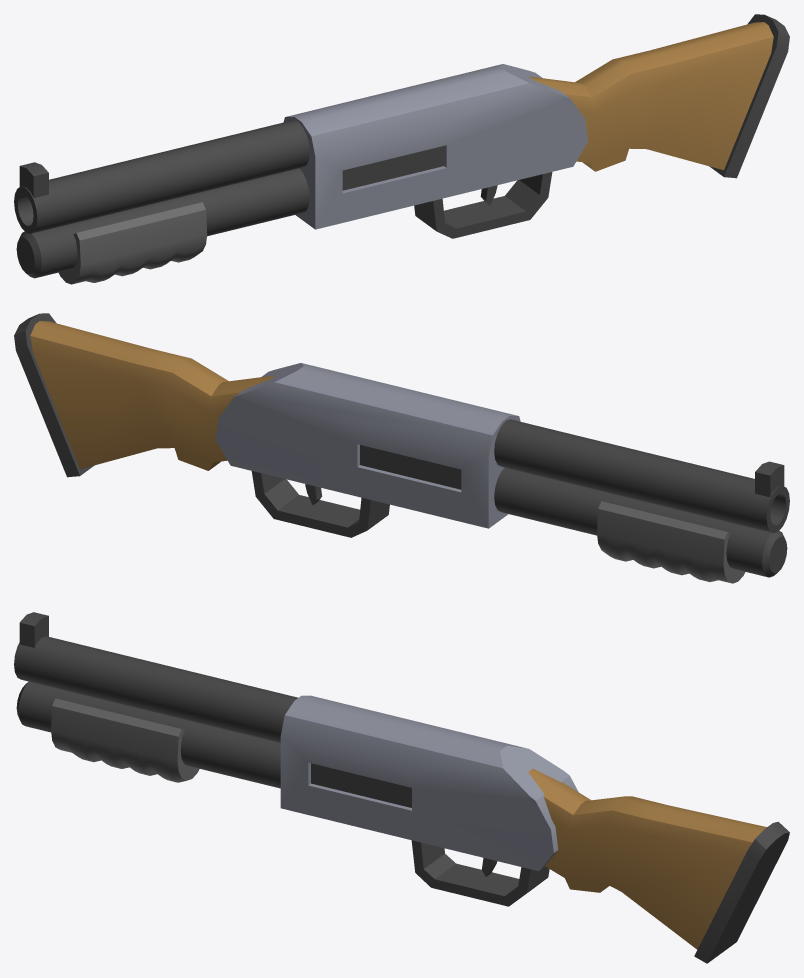
The model's file is quaternius-toon-shooter-game-shotgun.glb.
The picture shows the model from 3 angles, top to bottom: view 1: azimuth 30°, elevation 25°; view 2: azimuth 150°, elevation 25°; view 3: azimuth 330°, elevation 25°; orthographic projection.
Parts seen in each view (by area): view 1: Shotgun; view 2: Shotgun; view 3: Shotgun.
Part boxes in pixels (left/top/right/bottom): Shotgun: left=14, top=14, right=789, bottom=284; Shotgun: left=14, top=313, right=789, bottom=583; Shotgun: left=14, top=612, right=789, bottom=963.
Size of the model in its own units: 1.55 by 0.3308 by 0.1225.
